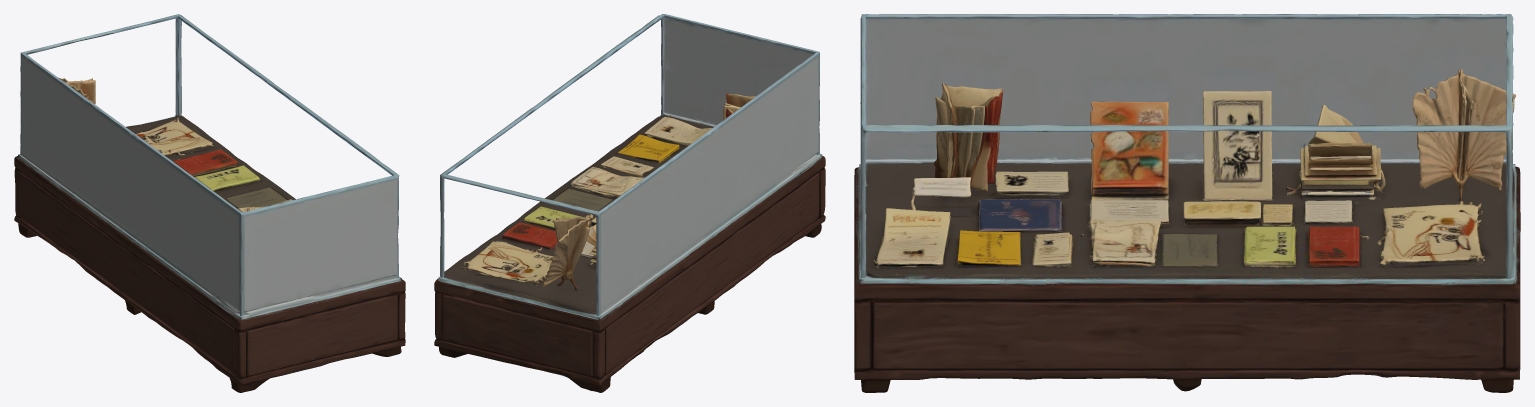
The model's file is cabin.fbx.
3 views of the same model, side by side, from view 1: azimuth 30°, elevation 25°; view 2: azimuth 150°, elevation 25°; view 3: azimuth 270°, elevation 25° (orthographic). The views are drawn at different scales.
Visible parts, largest first — view 1: obj1; view 2: obj1; view 3: obj1.
Boxes of the visible parts, x1=… form: obj1: x1=14, y1=14, x2=405, y2=392; obj1: x1=434, y1=14, x2=825, y2=392; obj1: x1=854, y1=14, x2=1520, y2=392.
Size of the model in its own units: 41.63 by 43.01 by 97.94.
1 material, 1 textured.
